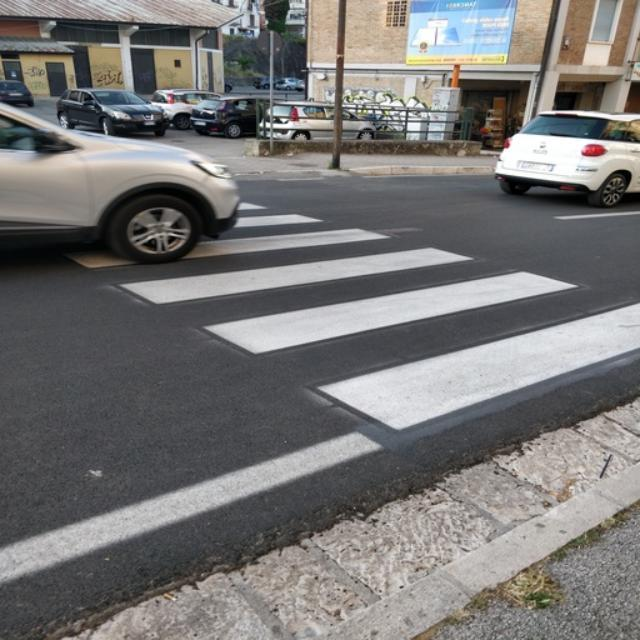sidewalk: (65, 200, 639, 431)
